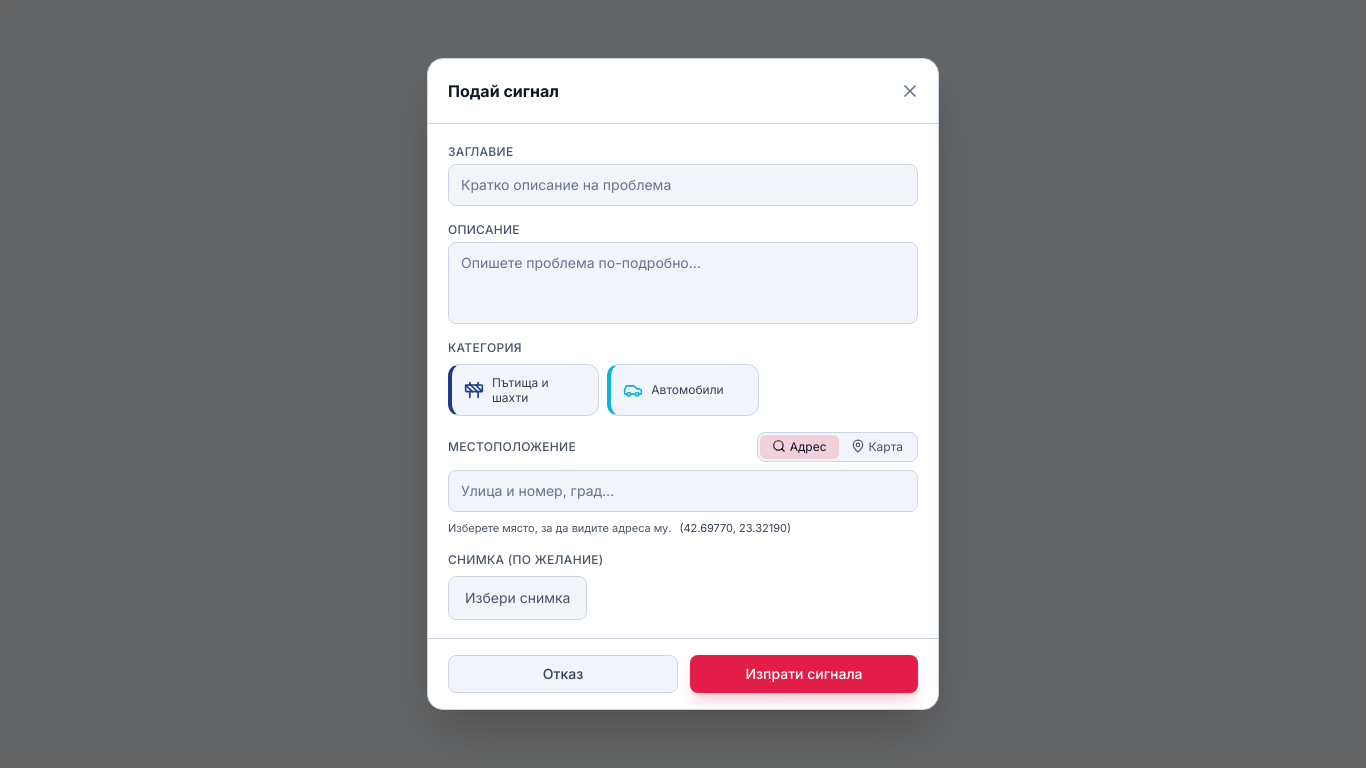
it: CreateAlertModal — is it already reported? › "mine is different" puts the advice away
The image size is (1366, 768).
Click the list item "Пътища и шахти": (524,390) [448,364,599,416]
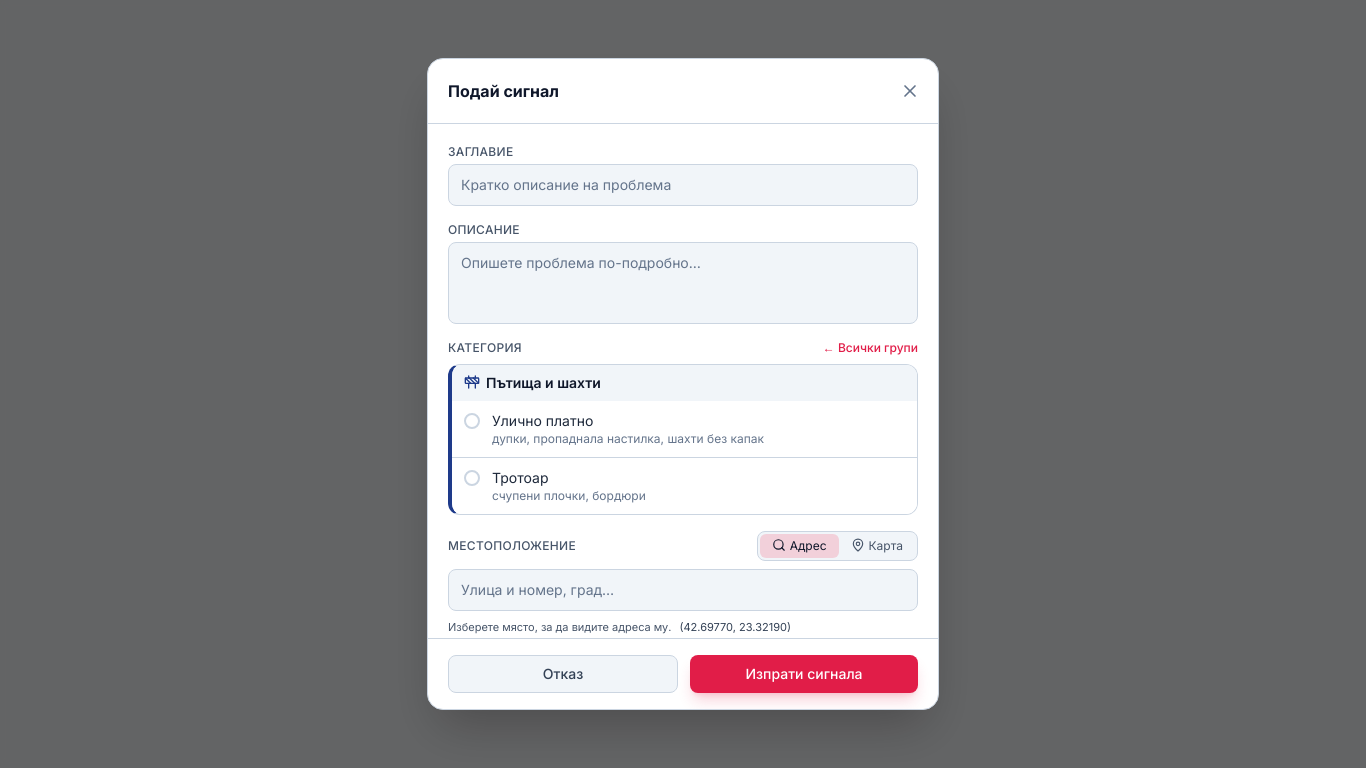
Click the radio button labelled "Улично платно дупки, пропаднала настилка, шахти без капак": (684,429) [452,401,917,457]
(page scrolled)
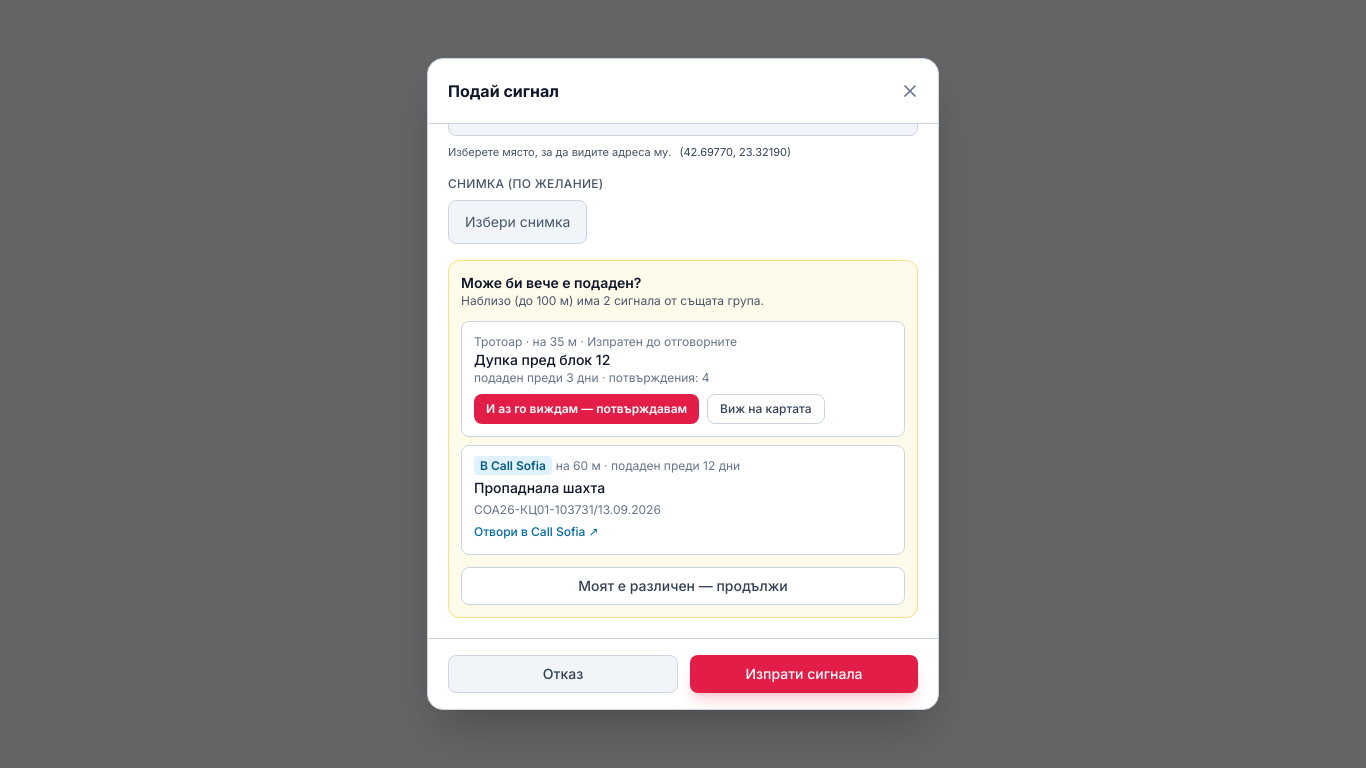
Click the button "Моят е различен — продължи": (683,586) [461,567,905,605]
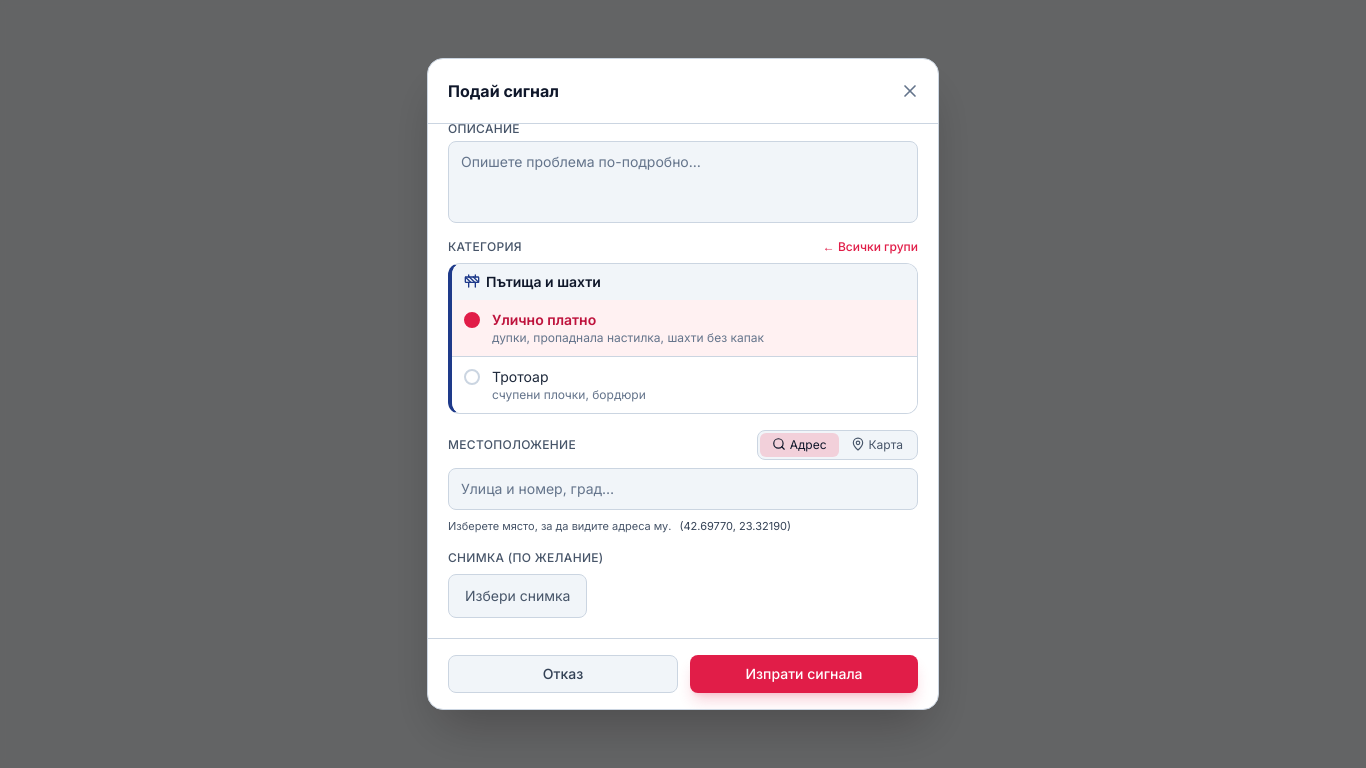
expect the heading "Може би вече е подаден?" is gone: met
